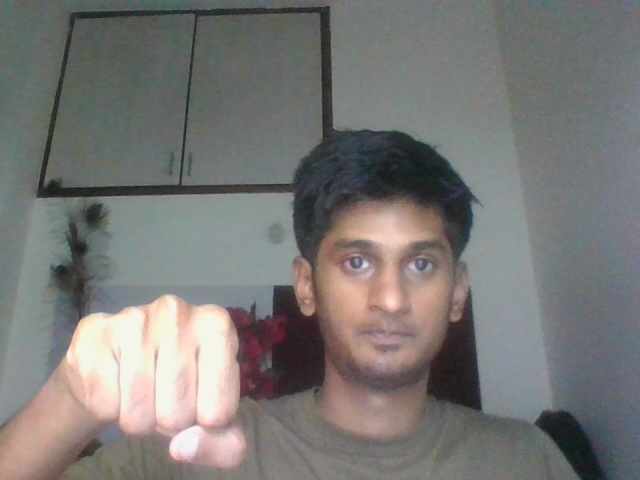Yes: (44, 263, 266, 472)
